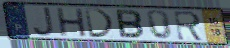0: (146, 9, 174, 41)
B: (115, 8, 146, 40)
D: (83, 7, 117, 39)
H: (55, 8, 89, 39)
J: (32, 6, 56, 38)
R: (172, 10, 206, 43)
